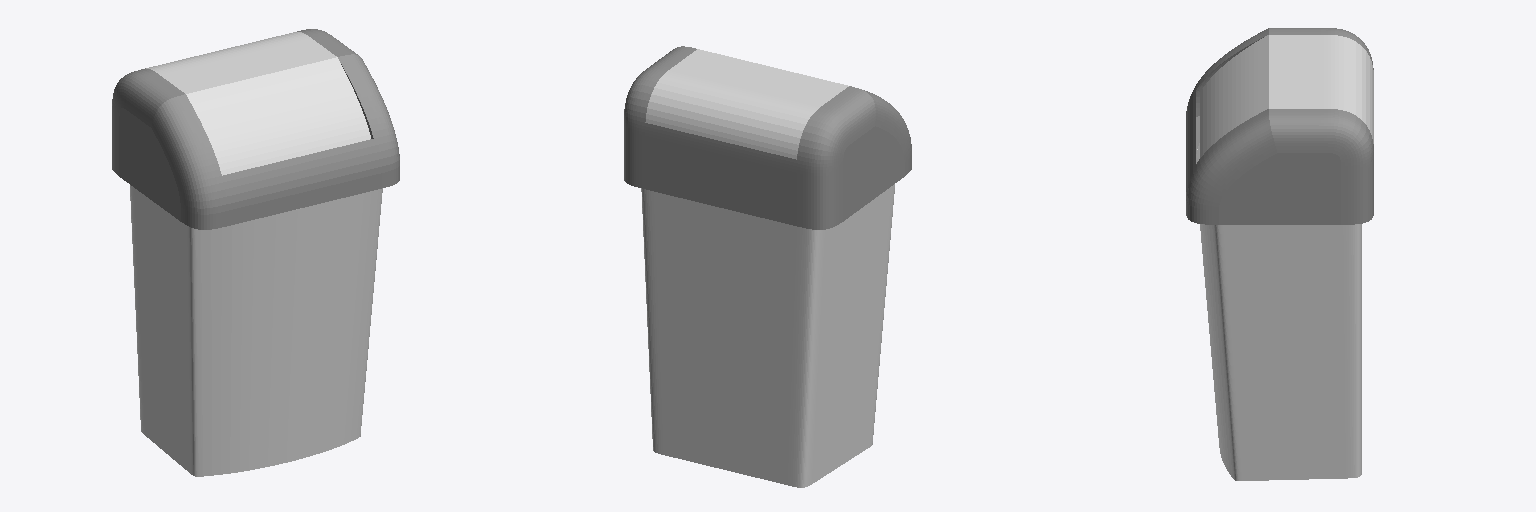
File: papelera.obj
3 renders of one model, left to right at view 1: azimuth 30°, elevation 25°; view 2: azimuth 150°, elevation 25°; view 3: azimuth 270°, elevation 25°, orthographic.
Visible parts, largest first — view 1: Mesh1 Group1 Model, Mesh2 Group3 Group2 Model, Mesh3 Group5 Group4 Group2 Model; view 2: Mesh1 Group1 Model, Mesh2 Group3 Group2 Model, Mesh3 Group5 Group4 Group2 Model; view 3: Mesh1 Group1 Model, Mesh2 Group3 Group2 Model, Mesh3 Group5 Group4 Group2 Model.
Part boxes in pixels (bbox=[...]): Mesh1 Group1 Model: bbox=[130, 185, 382, 476]; Mesh2 Group3 Group2 Model: bbox=[112, 29, 399, 229]; Mesh3 Group5 Group4 Group2 Model: bbox=[146, 32, 370, 175]; Mesh1 Group1 Model: bbox=[641, 184, 894, 487]; Mesh2 Group3 Group2 Model: bbox=[624, 46, 911, 229]; Mesh3 Group5 Group4 Group2 Model: bbox=[645, 49, 848, 159]; Mesh1 Group1 Model: bbox=[1196, 143, 1361, 480]; Mesh2 Group3 Group2 Model: bbox=[1186, 28, 1373, 224]; Mesh3 Group5 Group4 Group2 Model: bbox=[1200, 35, 1373, 157].
Bounding box in the file's own units: 32.88 × 54.71 × 25.3.